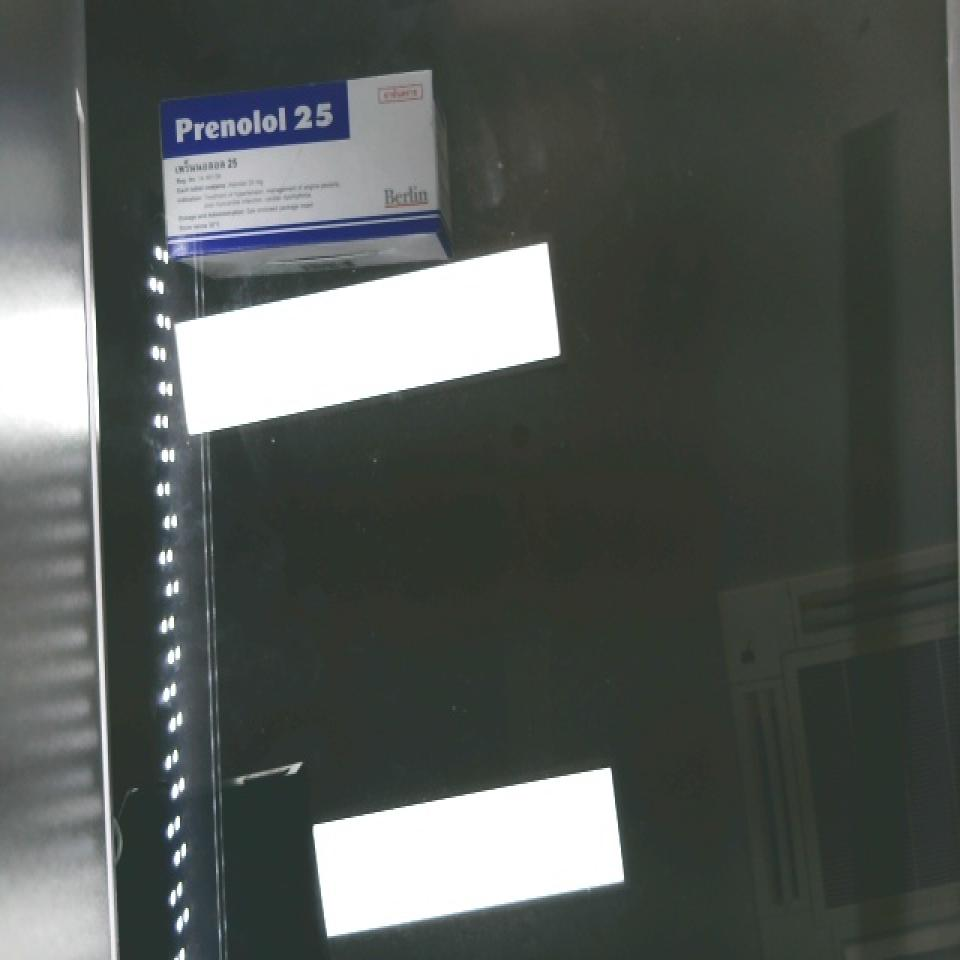medicine_box: (147, 70, 454, 256)
medicine_label_obb: (160, 84, 352, 154)
